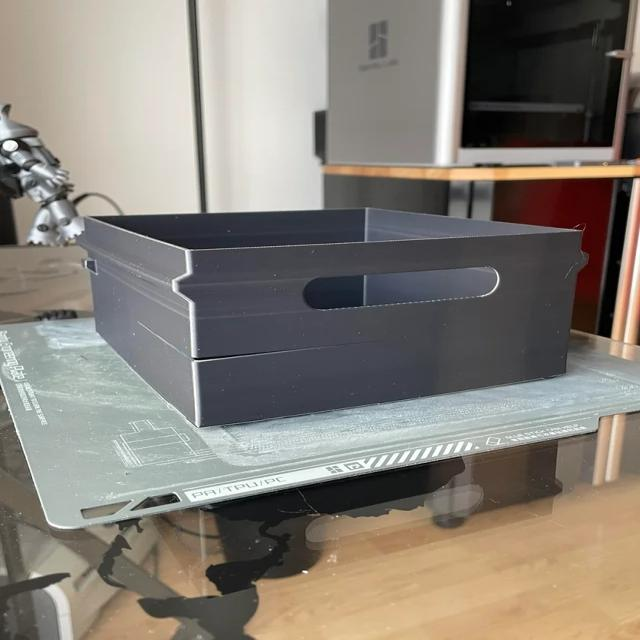cracks: (131, 323, 394, 381)
